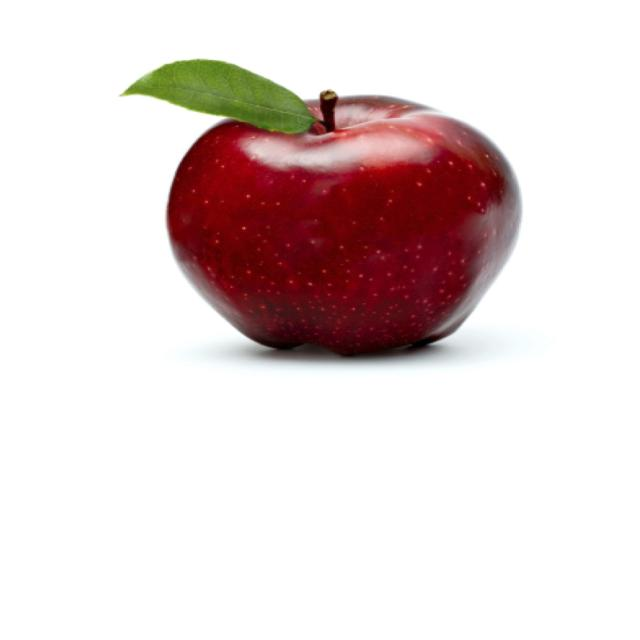apple: (167, 84, 528, 362)
